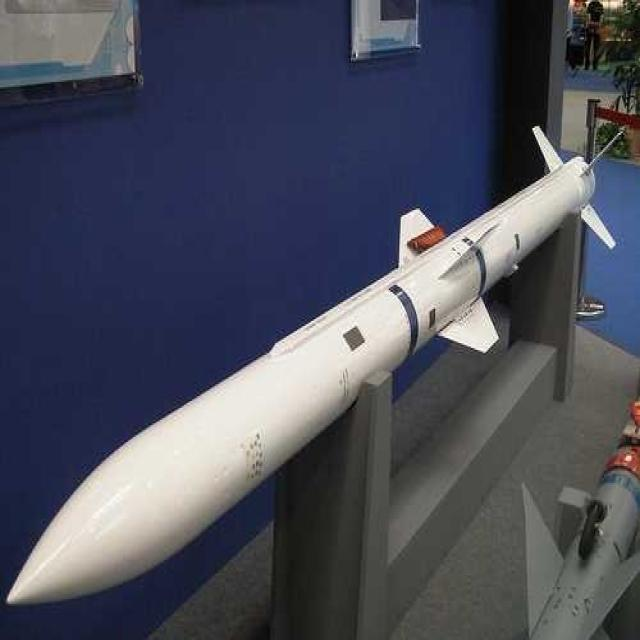missile: (7, 113, 618, 603)
